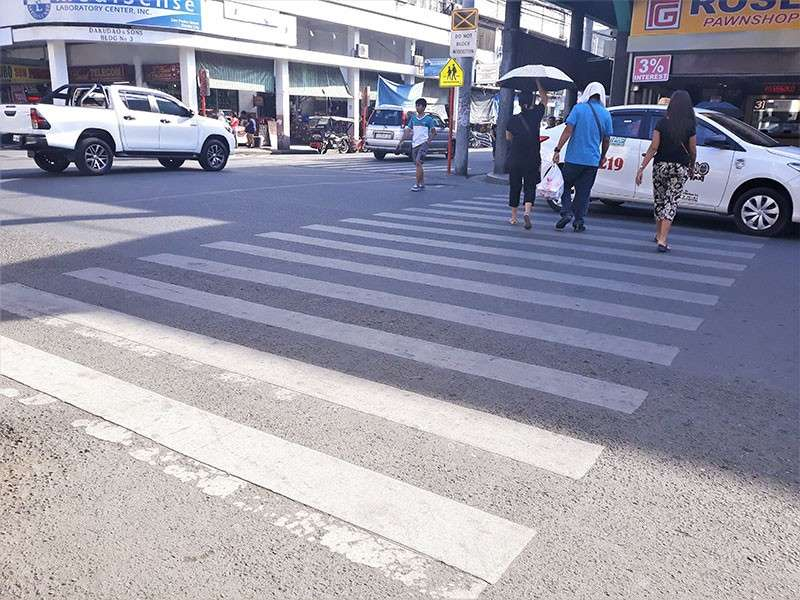car: (1, 81, 237, 172), (366, 105, 414, 159)
pedestrian lane: (1, 193, 767, 581)
person: (639, 89, 695, 256), (565, 81, 604, 235), (511, 92, 539, 229), (406, 98, 435, 189)
pole: (456, 1, 469, 174)
